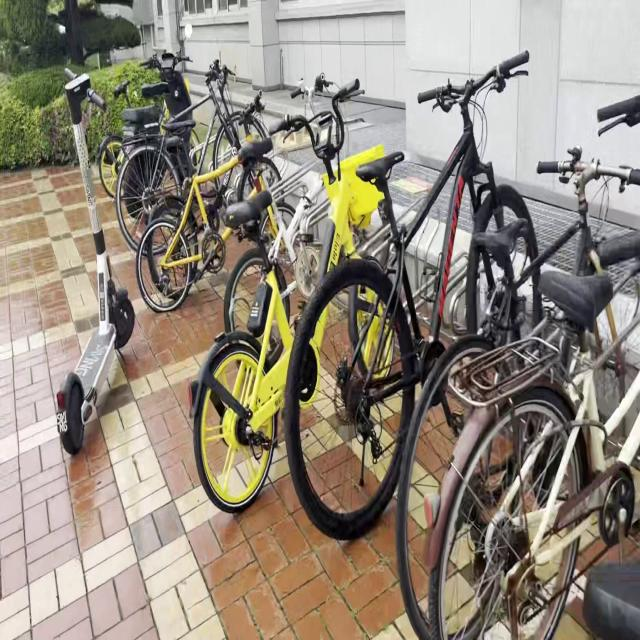ebike_ok: (190, 184, 284, 525)
kickboard_ok: (48, 70, 118, 455)
